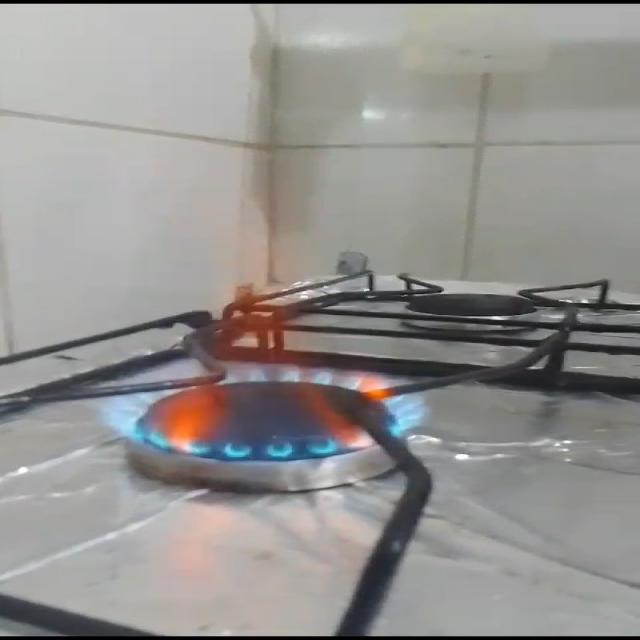fogo-ypXI: (89, 192, 435, 463)
